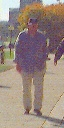person: (13, 17, 48, 114)
